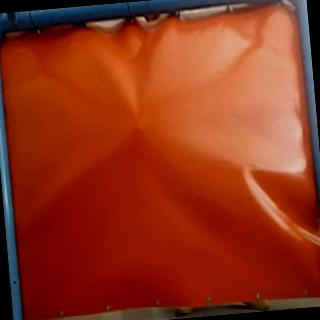Hit-hRxx: (130, 120, 146, 136)
